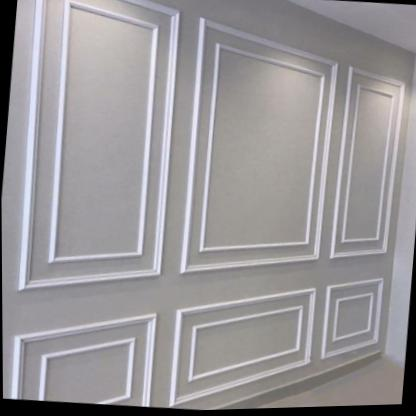Futec frame: (0, 0, 190, 412), (163, 10, 351, 412), (315, 62, 414, 378)
